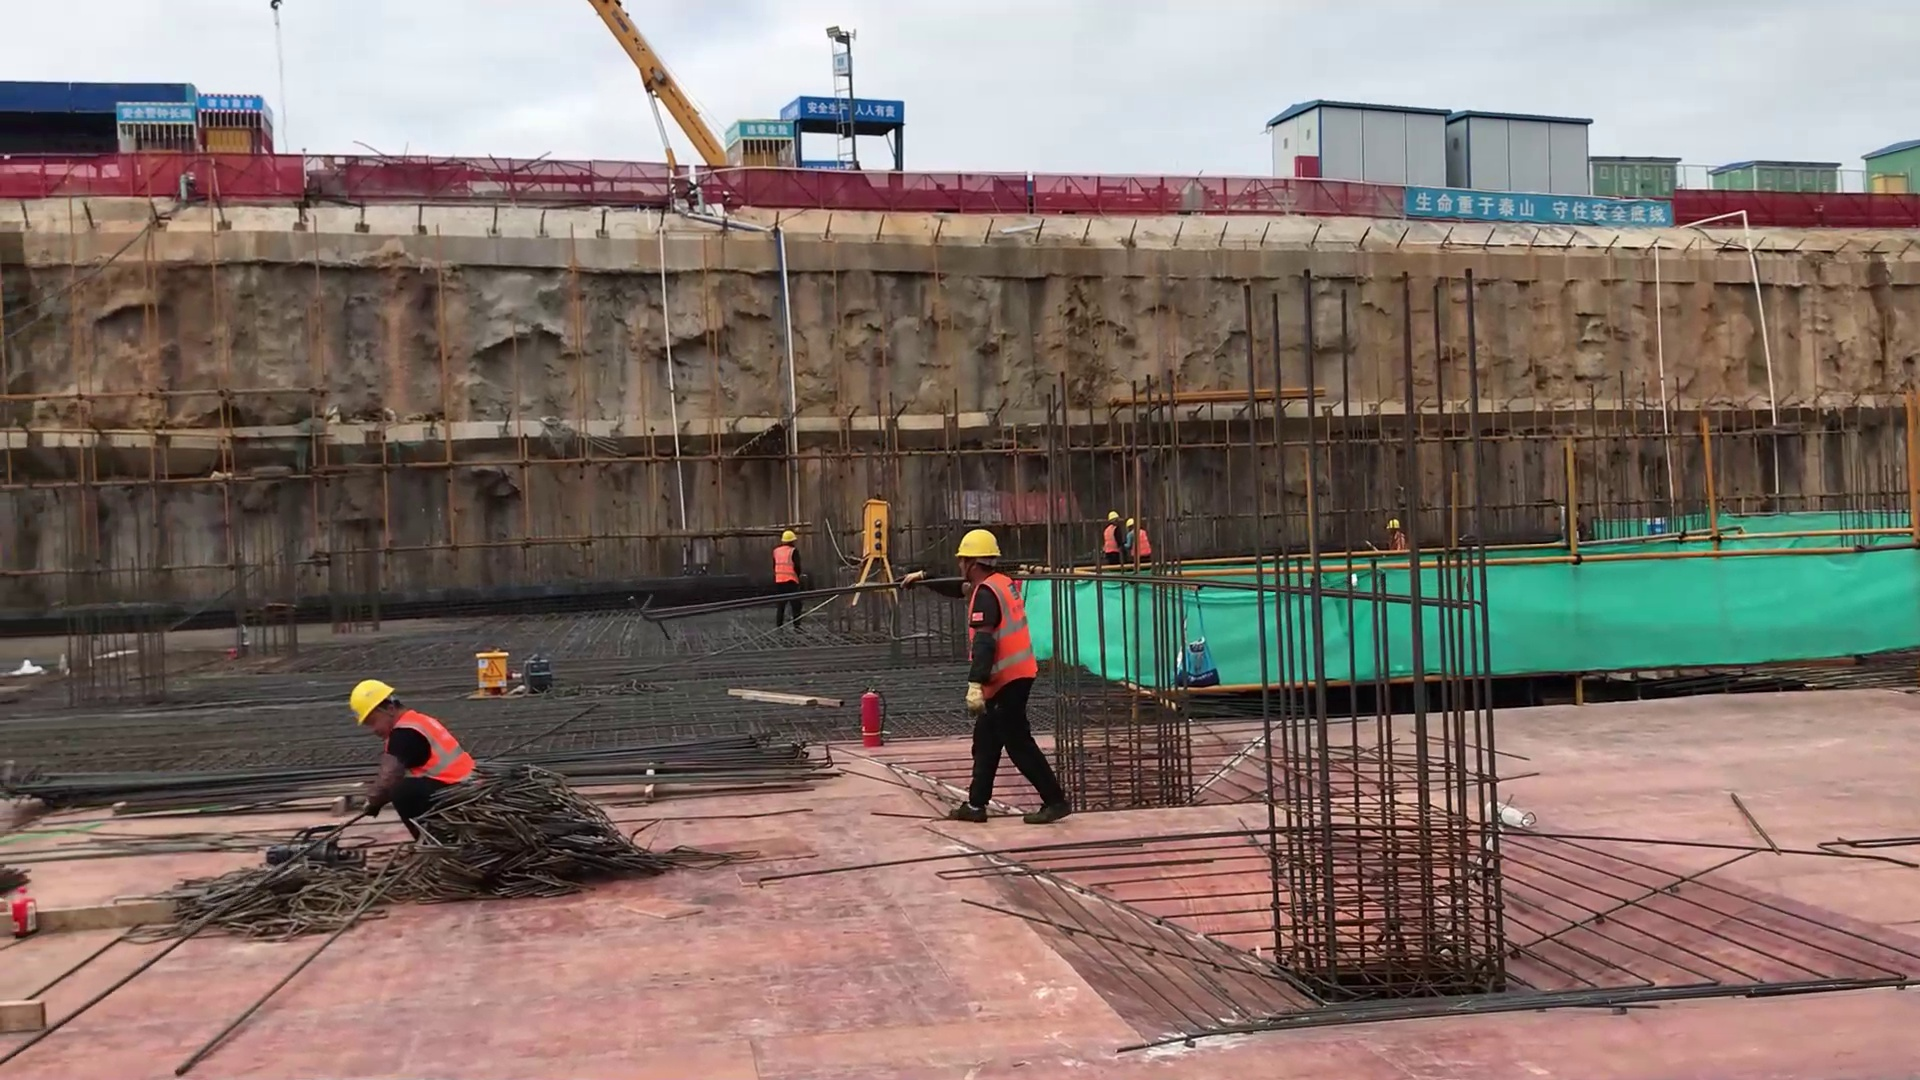ebox: (854, 495, 898, 605), (471, 644, 513, 698), (203, 128, 252, 155)
helmet: (350, 679, 395, 726), (955, 529, 1002, 558), (779, 530, 797, 543), (1387, 520, 1400, 529), (1108, 511, 1119, 521), (1126, 518, 1134, 528)
hook: (268, 1, 284, 11)
person: (896, 529, 1074, 824), (349, 678, 476, 840), (770, 529, 808, 636), (1124, 517, 1152, 562), (1102, 510, 1122, 564), (1386, 519, 1407, 552)
slogan: (1404, 187, 1671, 225), (800, 97, 903, 122)
vest: (969, 573, 1038, 698), (389, 712, 476, 783), (774, 545, 798, 585), (1129, 530, 1152, 555), (1102, 525, 1121, 553)
